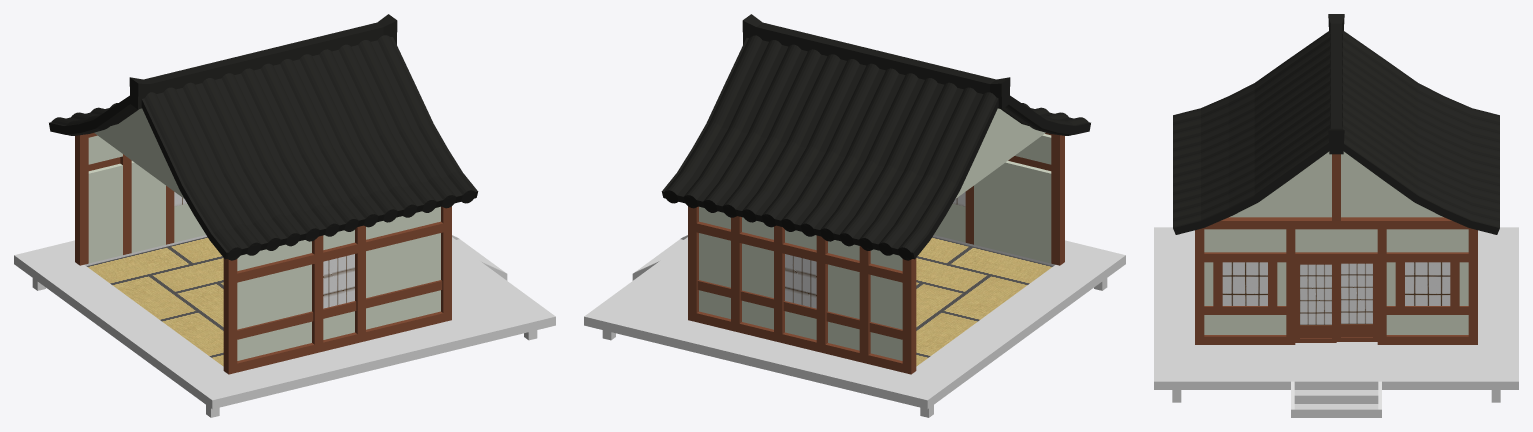
Rendered from Warehouse2.fbx.
3 renders of one model, left to right at view 1: azimuth 30°, elevation 25°; view 2: azimuth 150°, elevation 25°; view 3: azimuth 270°, elevation 25°, orthographic. The views are drawn at different scales.
Parts seen in each view (by area): view 1: Cube.124; view 2: Cube.124; view 3: Cube.124.
Boxes of the visible parts, left/top/right/bottom form: Cube.124: left=14, top=14, right=555, bottom=417; Cube.124: left=584, top=14, right=1125, bottom=417; Cube.124: left=1154, top=14, right=1518, bottom=417.
Bounding box in the file's own units: 860 × 599 × 800.
